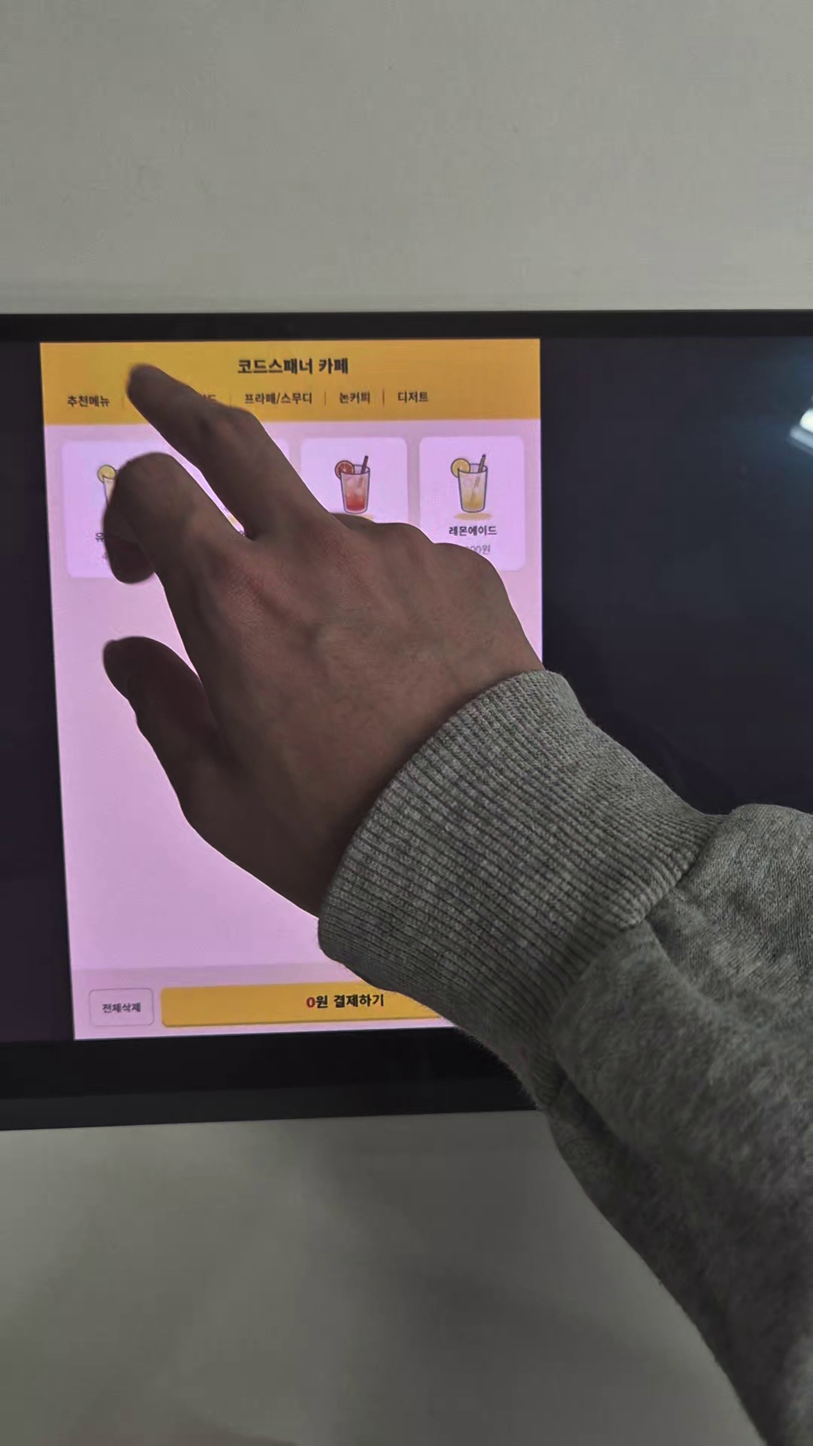action_button: (160, 978, 535, 1027), (88, 989, 155, 1027)
category_tab: (239, 387, 316, 410), (64, 392, 114, 412), (336, 388, 373, 409), (394, 387, 430, 407)
menu_back: (303, 437, 410, 575), (418, 435, 523, 575)
menu_name: (443, 522, 502, 538)
